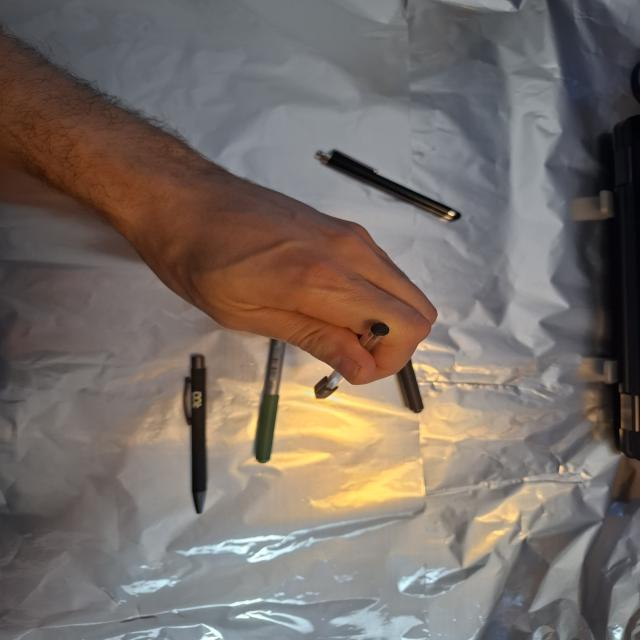glove_off: (133, 176, 440, 387)
